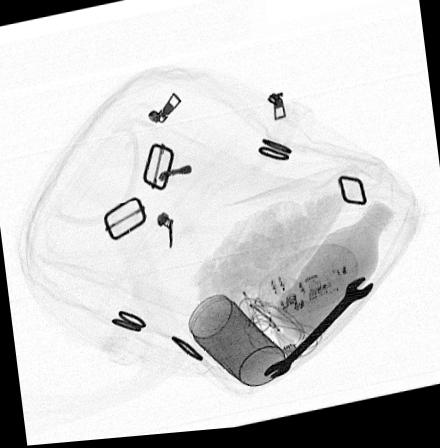Wrench: (261, 283, 374, 385)
